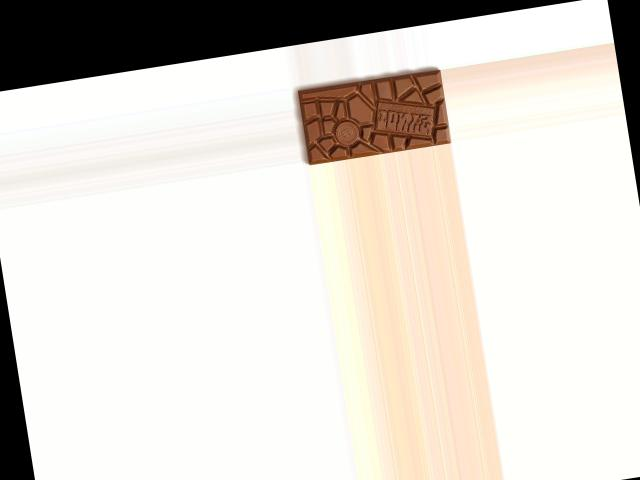chocolate: (295, 64, 452, 165)
